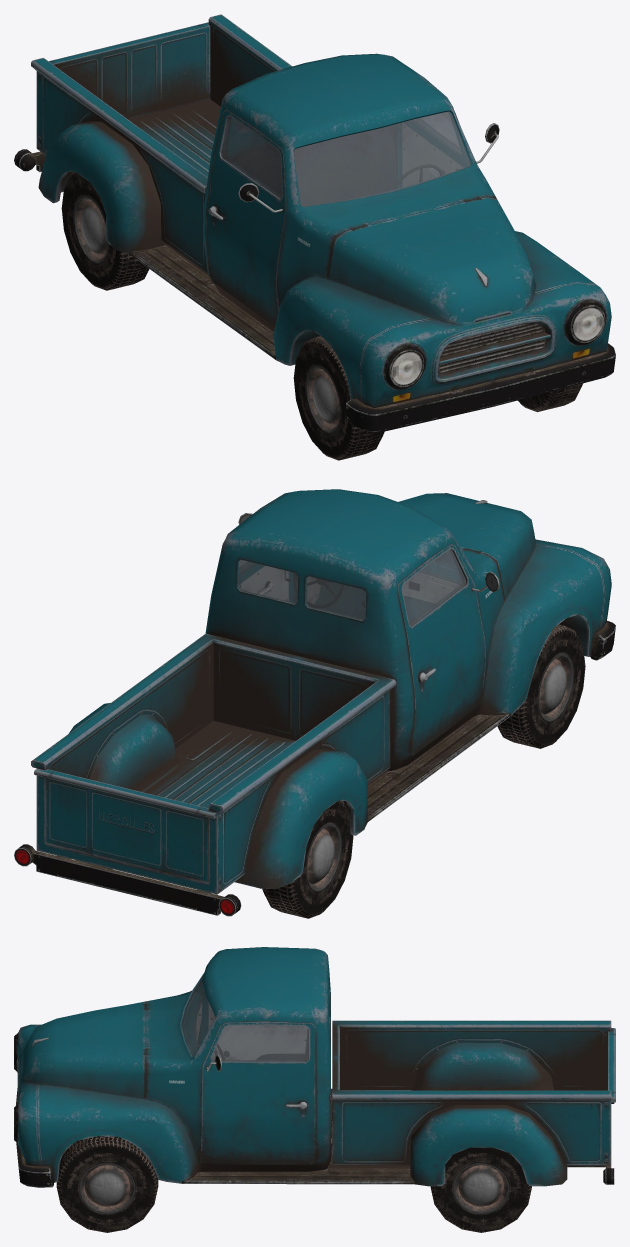
Rendered from an-old-pickup-truck-d52c6e.glb.
3 views of the same model, one above another, from view 1: azimuth 30°, elevation 25°; view 2: azimuth 150°, elevation 25°; view 3: azimuth 270°, elevation 25° (orthographic). The views are drawn at different scales.
Visible parts, largest first — view 1: body, wheel-front-right, wheel-back-right, wheel-front-left; view 2: body, wheel-front-right, wheel-back-right; view 3: body, wheel-front-left, wheel-back-left.
Boxes of the visible parts, bbox=[...] form: body: bbox=[14, 14, 615, 433]; wheel-front-right: bbox=[293, 336, 384, 460]; wheel-back-right: bbox=[61, 172, 149, 290]; wheel-front-left: bbox=[518, 383, 582, 412]; body: bbox=[14, 489, 615, 916]; wheel-front-right: bbox=[497, 624, 585, 748]; wheel-back-right: bbox=[262, 800, 353, 918]; body: bbox=[14, 947, 615, 1187]; wheel-front-left: bbox=[56, 1136, 158, 1232]; wheel-back-left: bbox=[430, 1147, 531, 1232].
Bounding box in the file's own units: 1.58 × 1.57 × 3.91.
4 materials, 4 textured.
